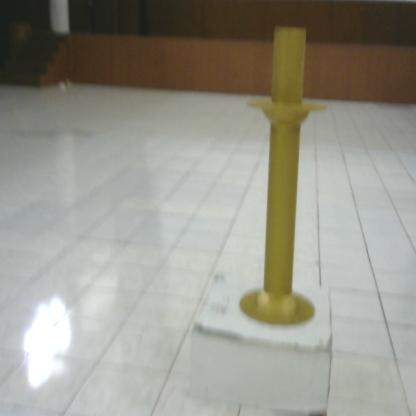pole: (230, 15, 337, 338)
